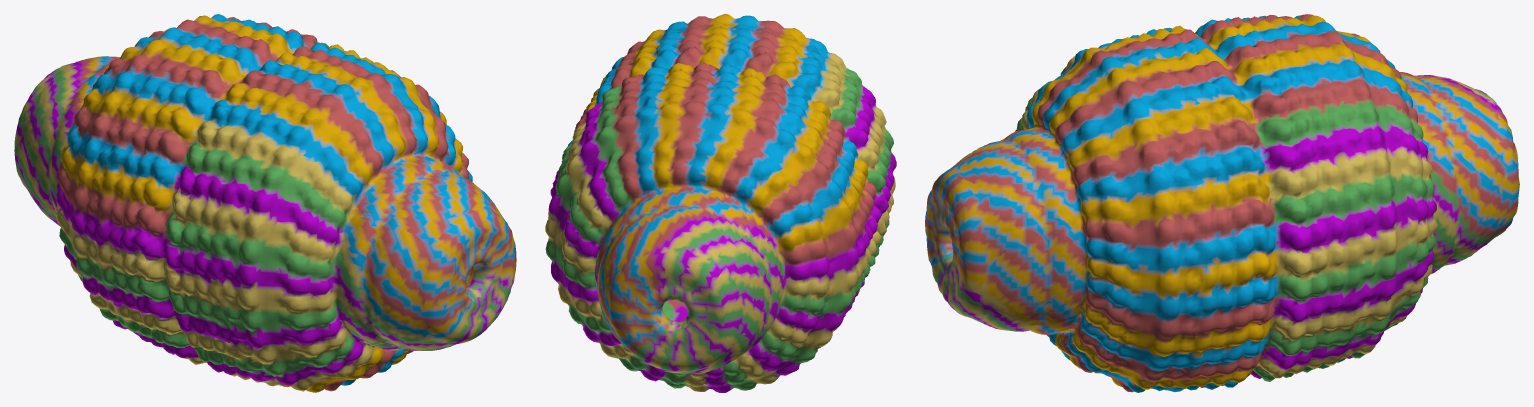
The model's file is 4V60-surf-bychain-print_NIH3D.glb.
3 views of the same model, side by side, from view 1: azimuth 30°, elevation 25°; view 2: azimuth 150°, elevation 25°; view 3: azimuth 270°, elevation 25° (orthographic). The views are drawn at different scales.
Parts seen in each view (by area): view 1: Surface #1; view 2: Surface #1; view 3: Surface #1.
Part boxes in pixels (<box>): Surface #1: <box>14,14,516,392</box>; Surface #1: <box>545,14,896,392</box>; Surface #1: <box>925,14,1519,392</box>.
Size of the model in its own units: 462 by 406 by 675.
